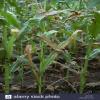Corn leaf blight: (27, 33, 84, 75), (15, 9, 78, 42), (41, 30, 84, 73), (25, 44, 41, 84), (59, 14, 96, 26)
